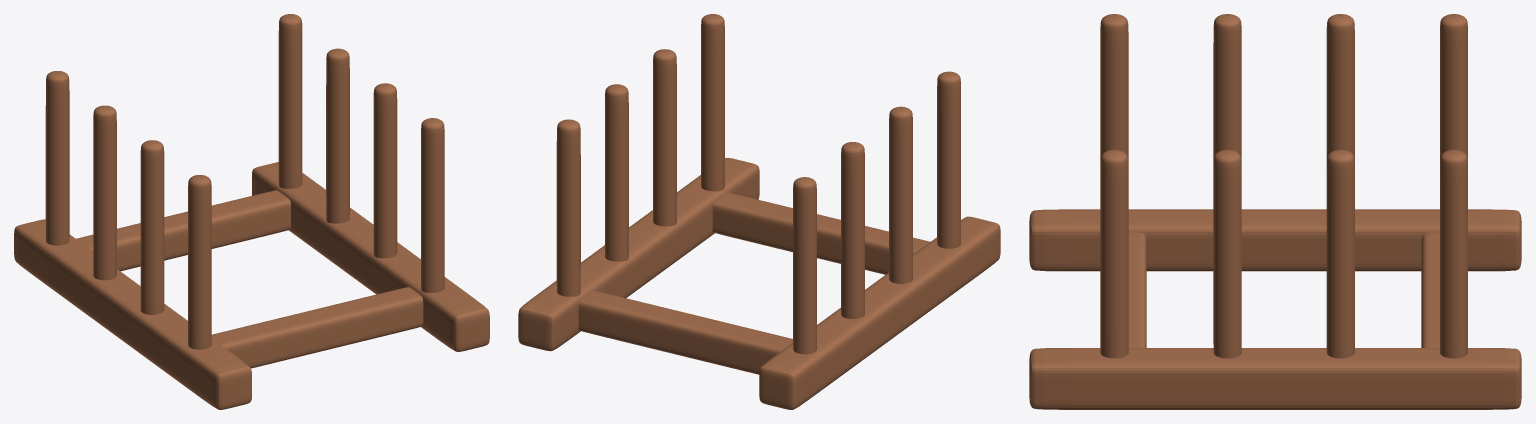
The model's file is Geschirrständer.fbx.
3 views of the same model, side by side, from view 1: azimuth 30°, elevation 25°; view 2: azimuth 150°, elevation 25°; view 3: azimuth 270°, elevation 25° (orthographic). The views are drawn at different scales.
Parts seen in each view (by area): view 1: Geschirrständer; view 2: Geschirrständer; view 3: Geschirrständer.
Boxes of the visible parts, left/top/right/bottom form: Geschirrständer: left=14, top=14, right=489, bottom=409; Geschirrständer: left=518, top=14, right=1000, bottom=409; Geschirrständer: left=1029, top=14, right=1521, bottom=409.
Bounding box in the file's own units: 403 × 289 × 524.
